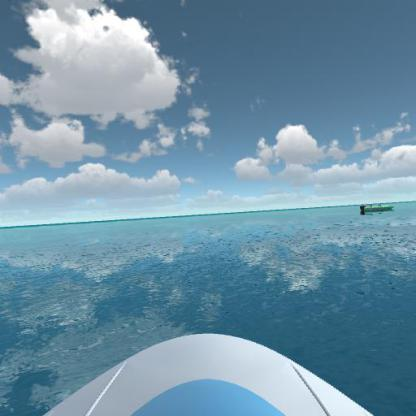usv0: (359, 201, 396, 218)
